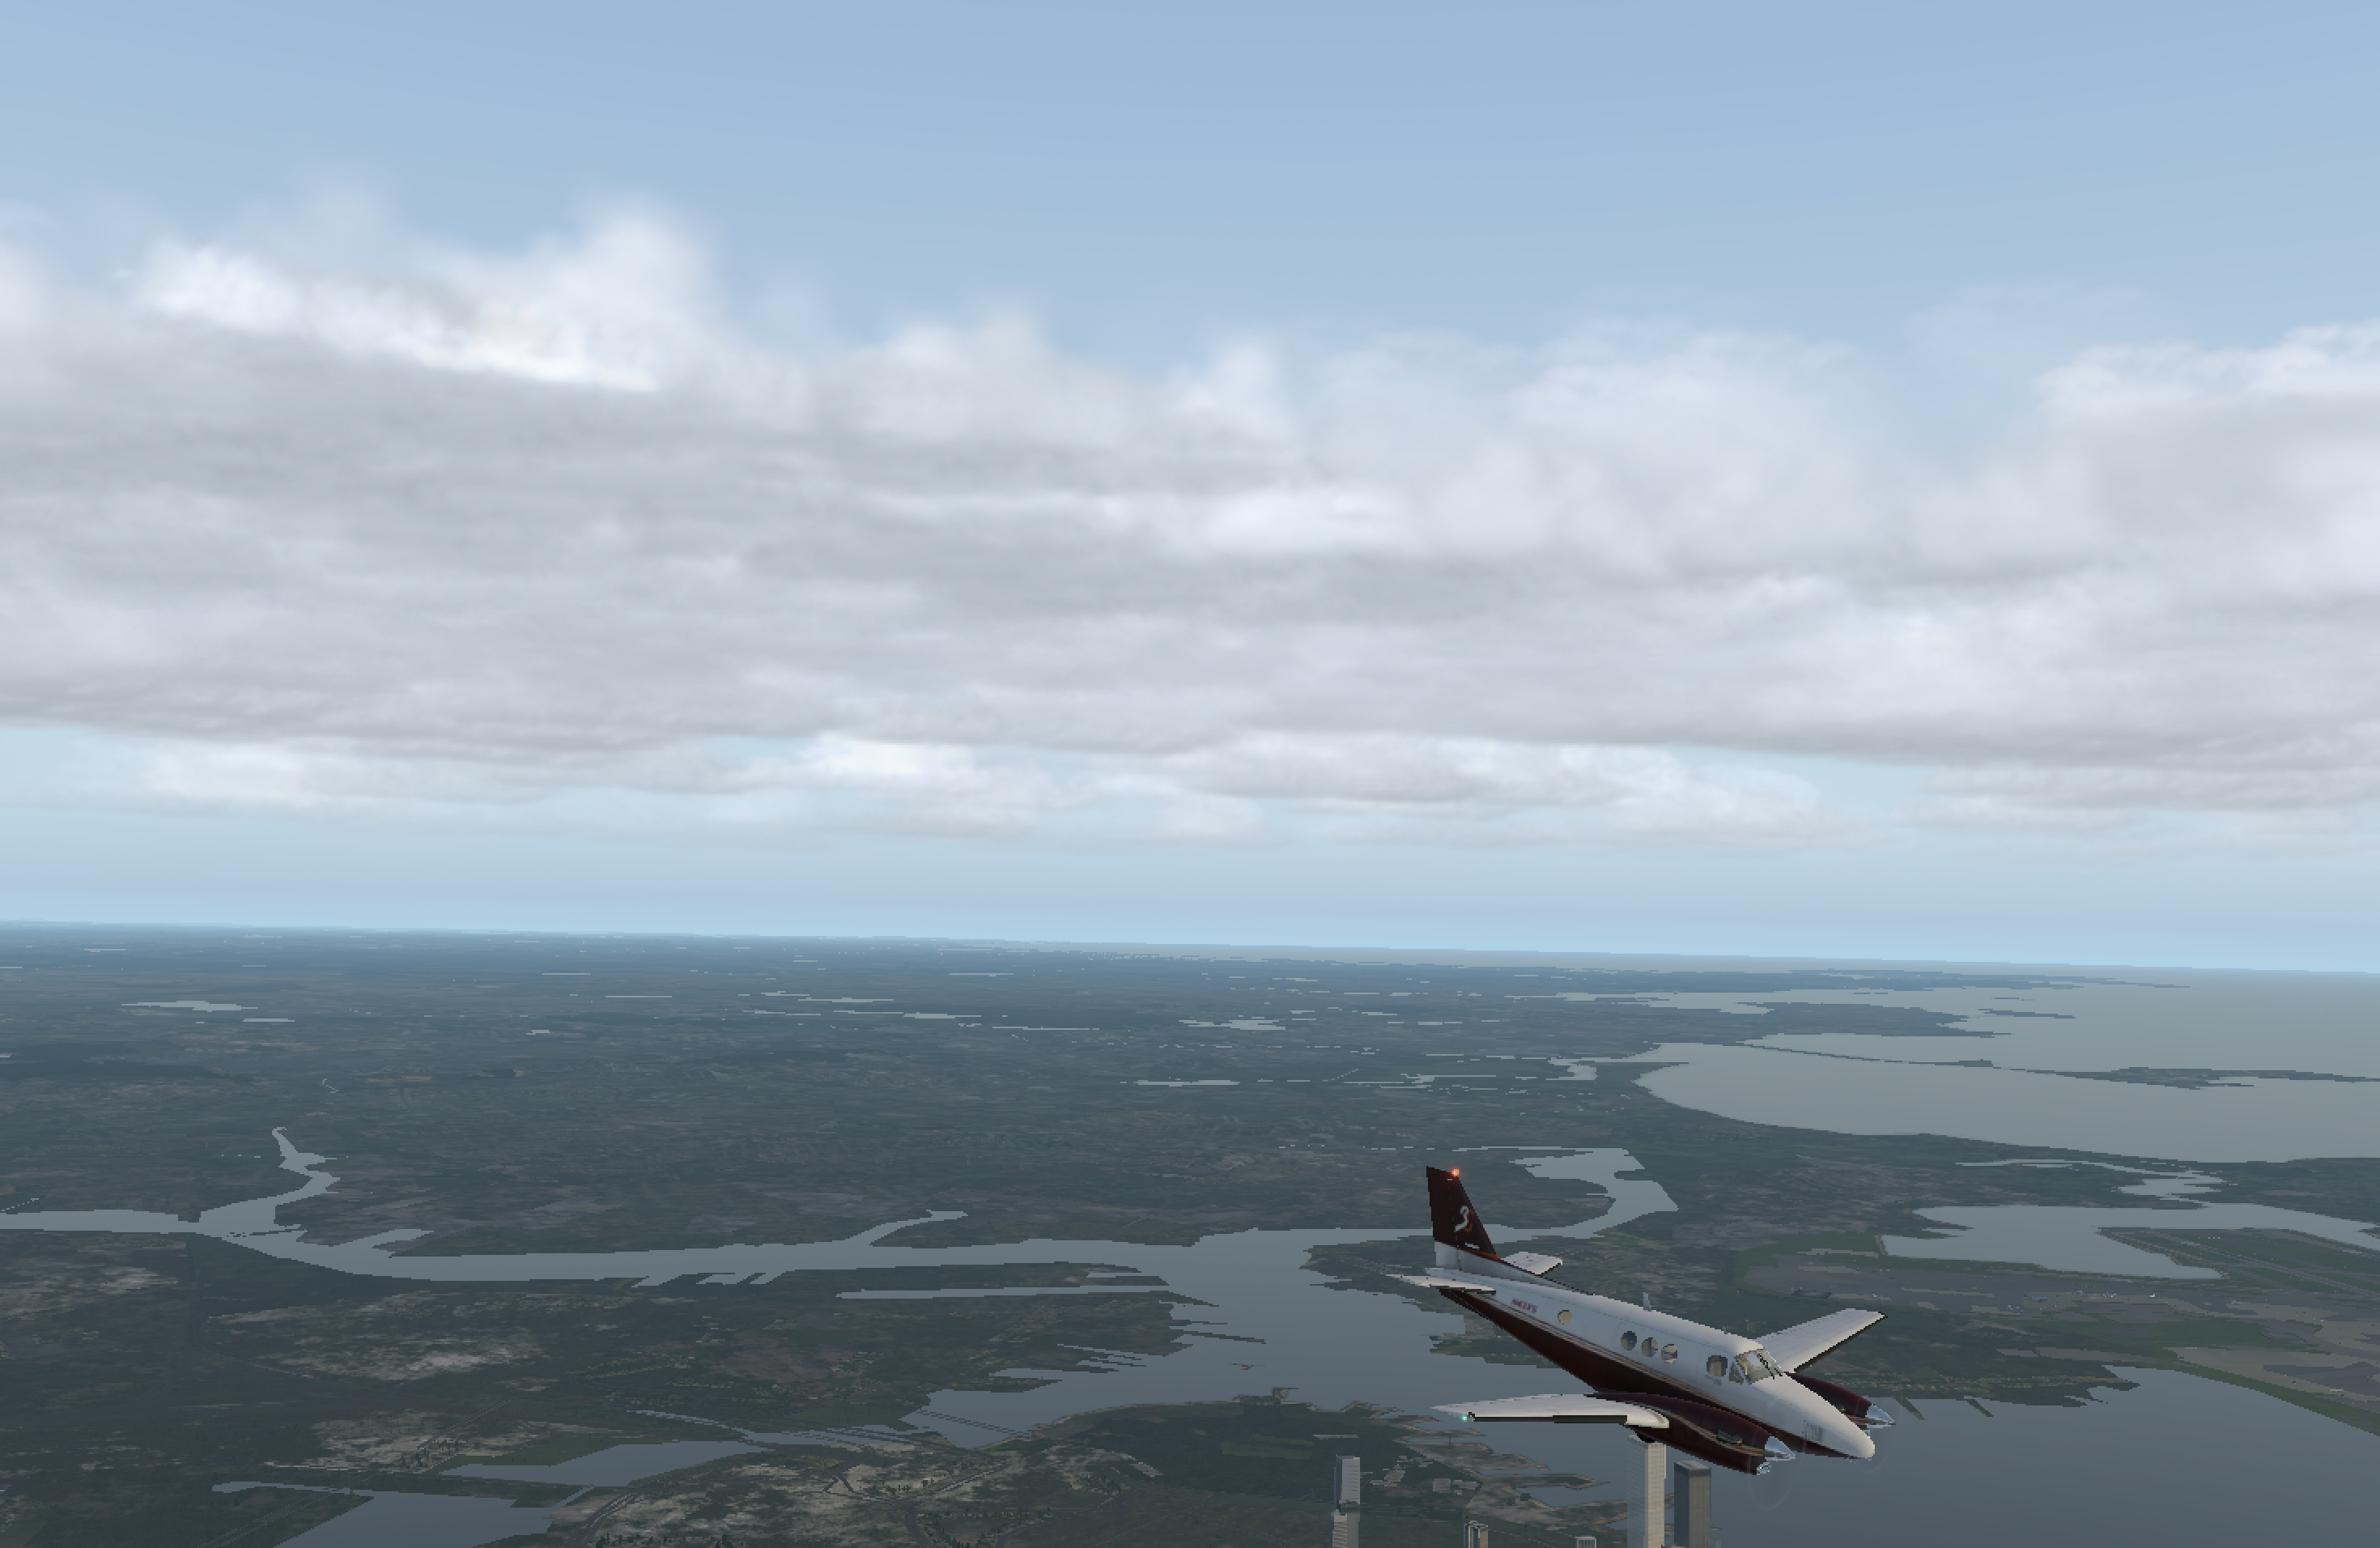aircraft: (1327, 1272, 2080, 1548)
